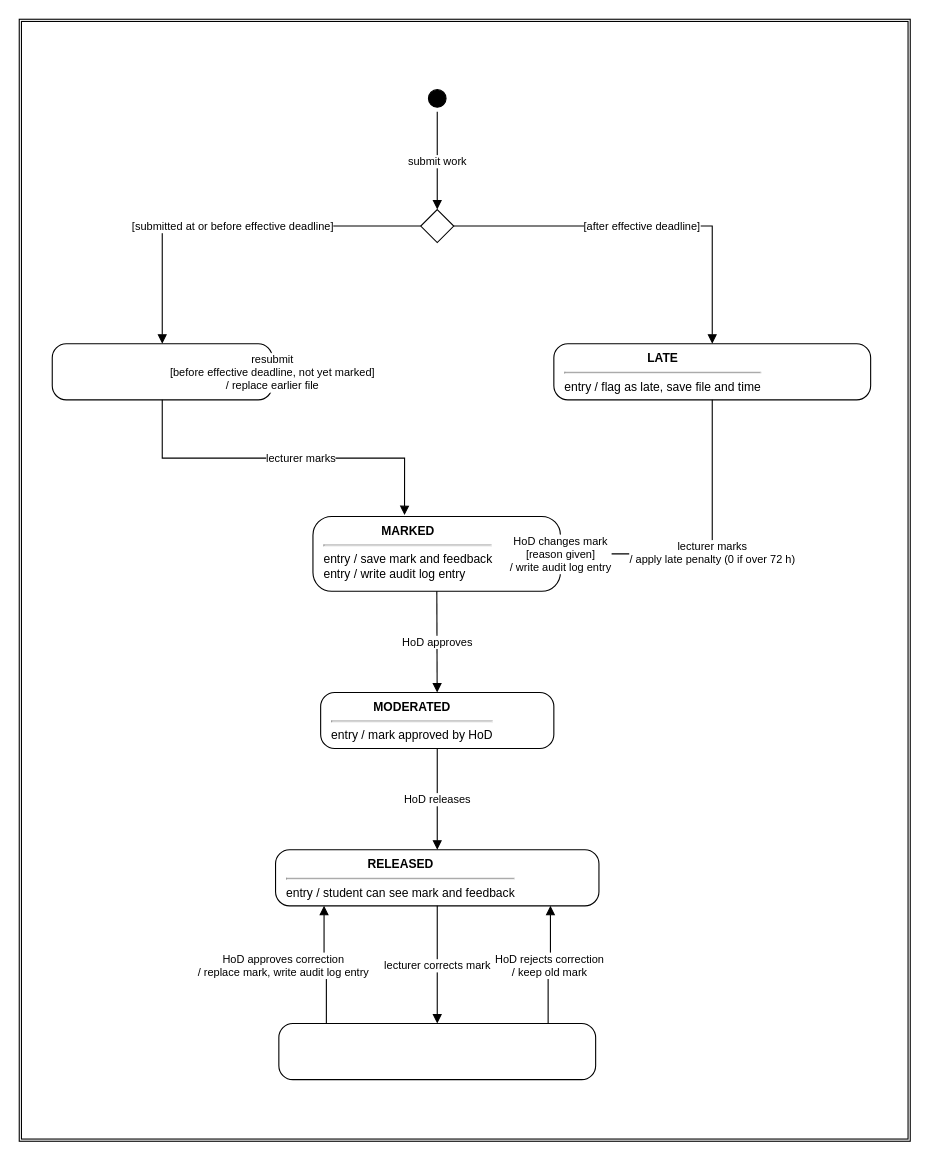
This 930x1161 diagram has some shape labels left out. The box of each missing label's shape, as (x1, y1, x2, y2) in pixels:
SUBMITTED entry / save file and time: (51, 343, 272, 400)
UNDER_REVIEW entry / student sees "Mark under review": (278, 1022, 596, 1080)
